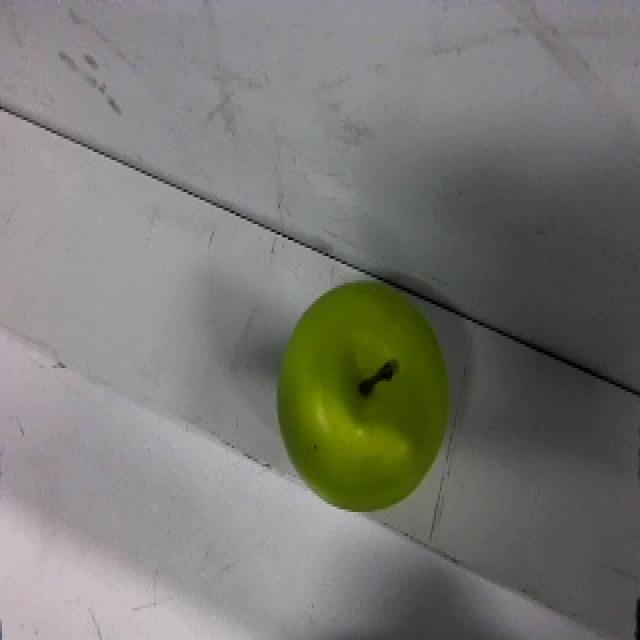apple: (275, 274, 451, 514)
